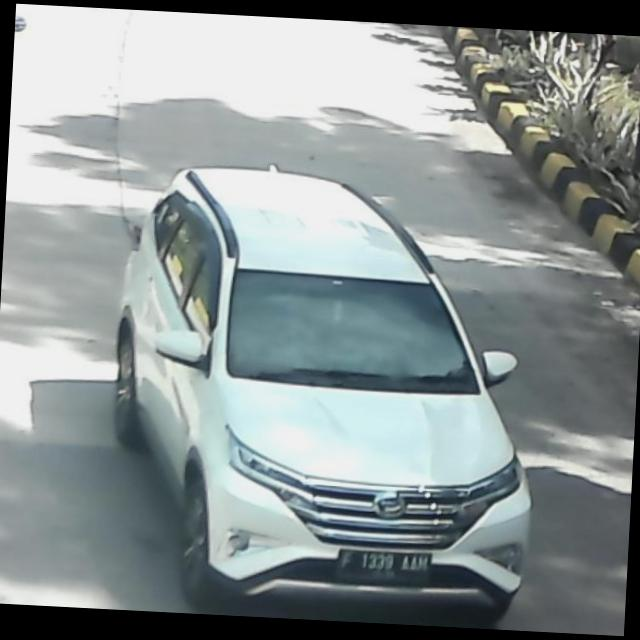plate: (333, 542, 436, 586)
